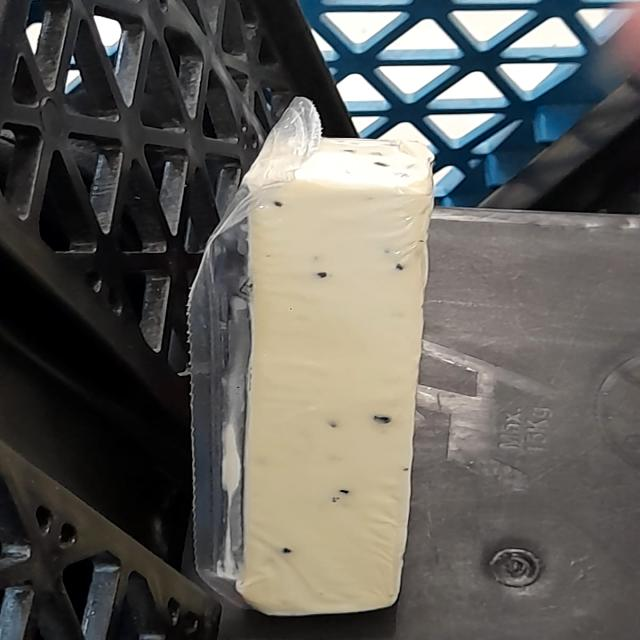cheese: (191, 104, 472, 635)
